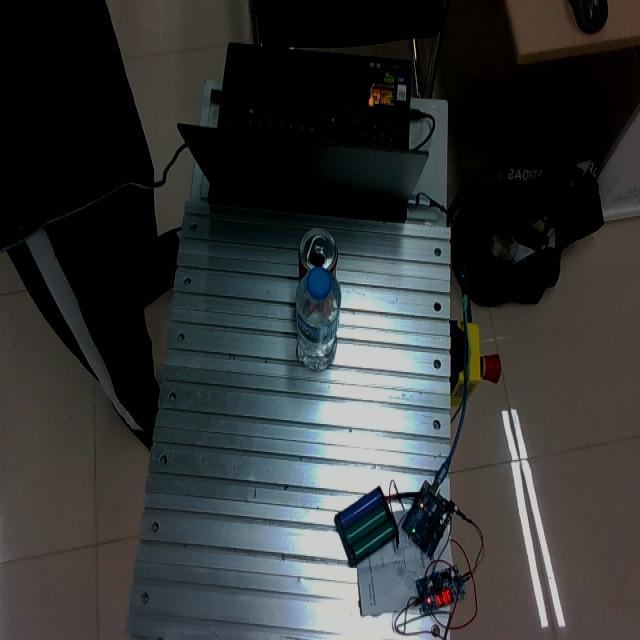coca: (298, 228, 339, 281)
lavie: (295, 261, 341, 372)
